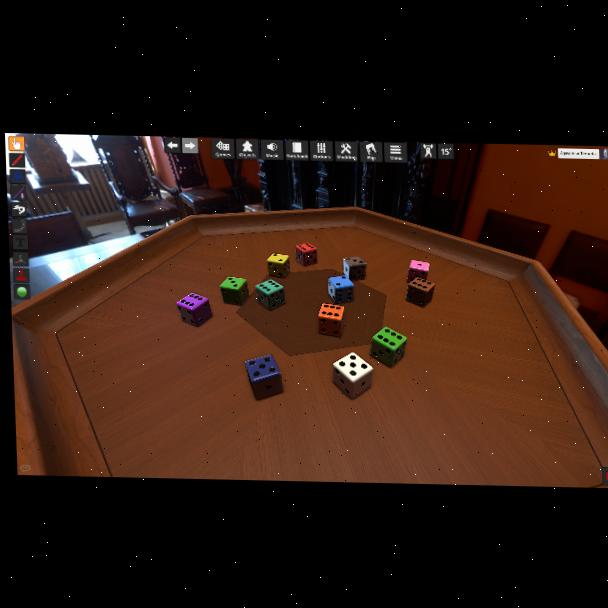d6: (244, 354, 285, 402), (331, 352, 372, 399), (370, 327, 407, 368), (176, 292, 213, 328), (404, 276, 435, 308), (255, 279, 285, 311), (317, 303, 344, 337), (219, 277, 247, 307), (327, 274, 354, 305), (267, 253, 291, 279), (342, 256, 366, 281), (406, 260, 429, 284), (294, 243, 316, 266)
